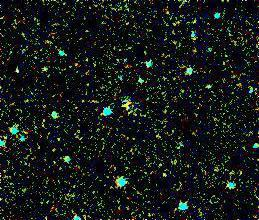star: (111, 89, 141, 119)
